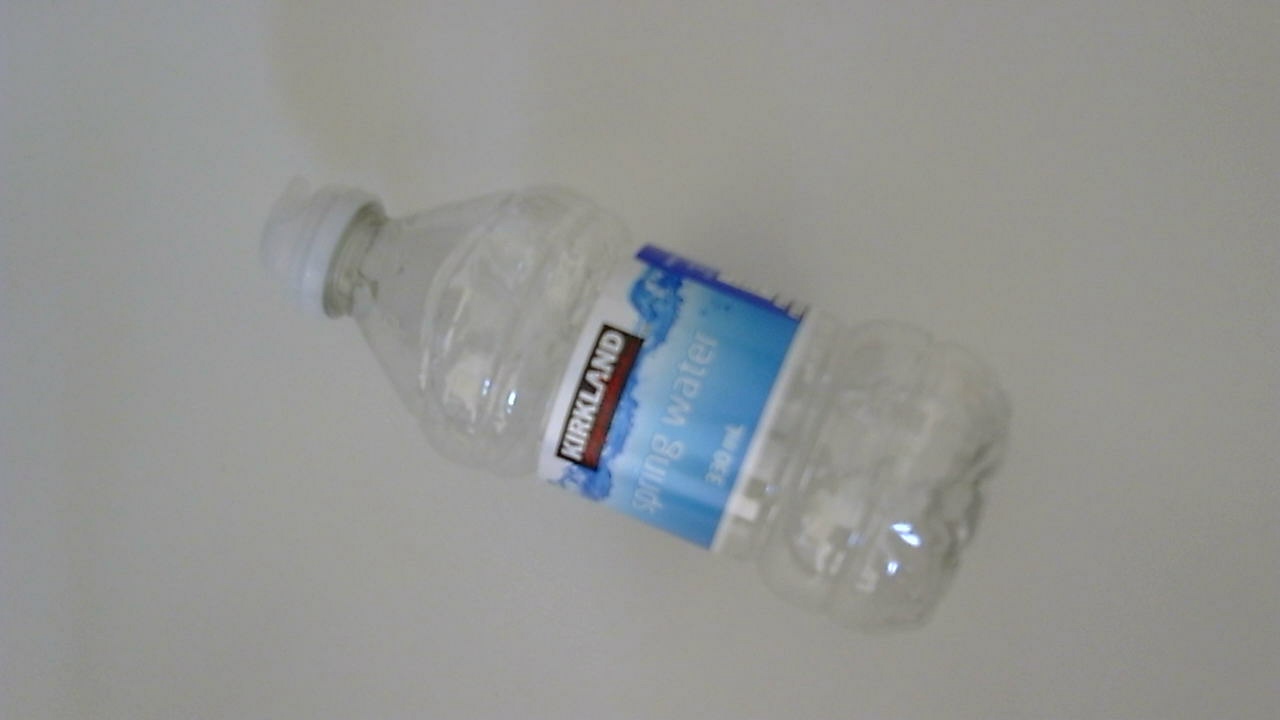Plastic Bottle: (260, 170, 1031, 649)
